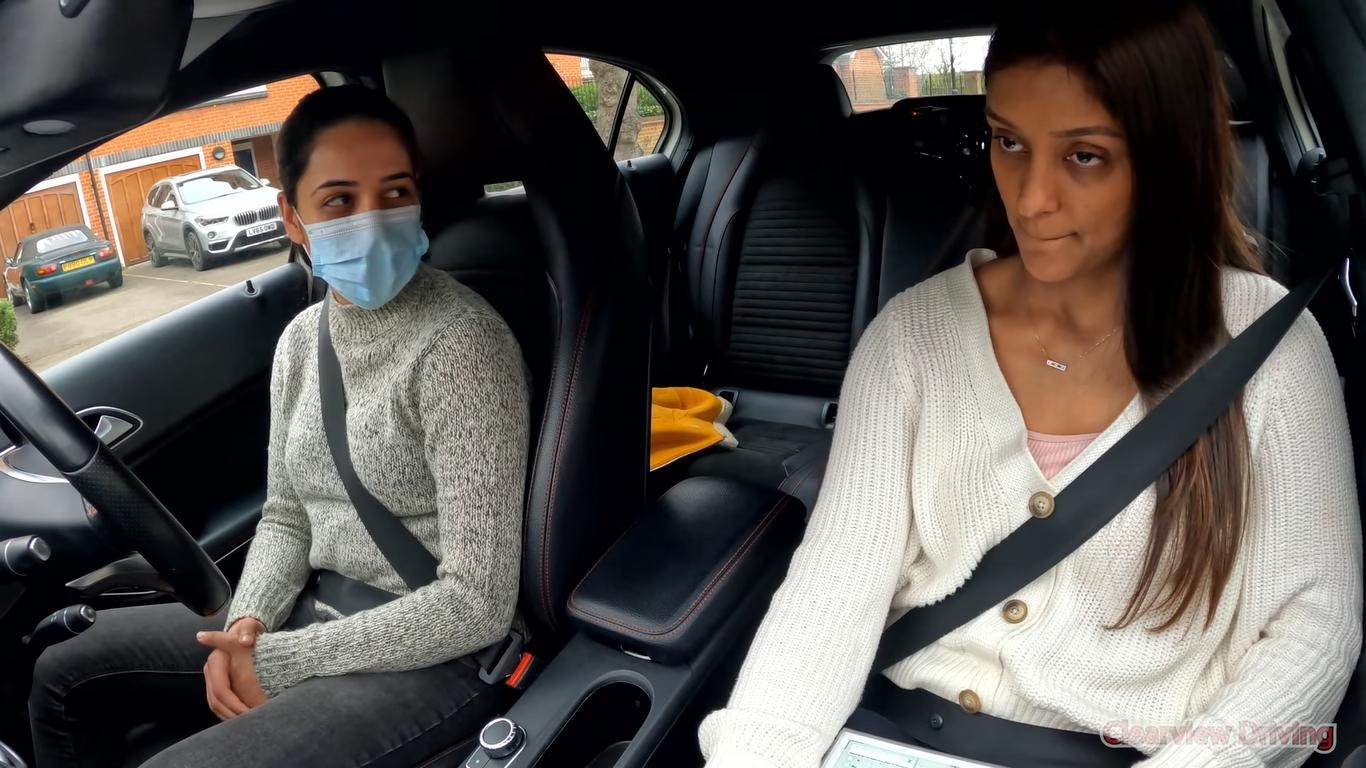seatbelt: (902, 319, 1263, 727), (260, 322, 427, 615)
